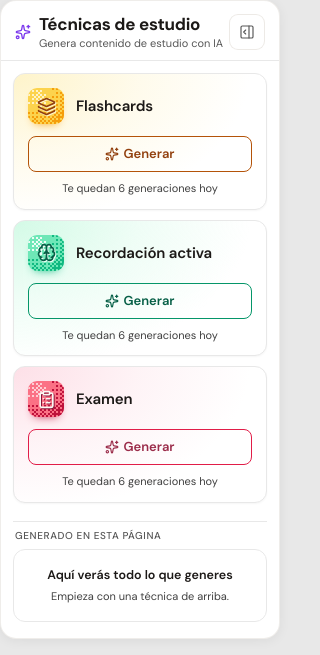
TechniquesPanel › flashcards (real data) › falls back to the generated cards when refreshing the list fails
Click the button with test id "generate-flashcards": (140, 154) [28,136,252,172]
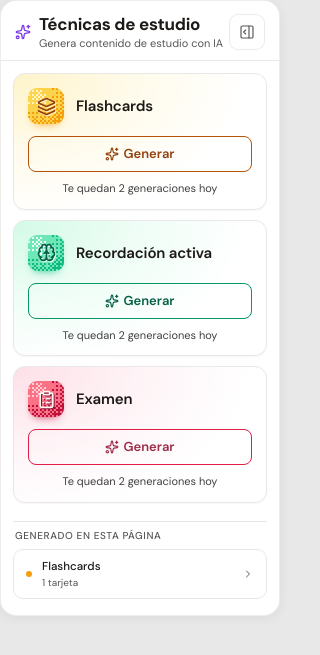
Expected: the link with test id "generated-item-flashcards" shows "1 tarjeta", [13,548,267,599]
